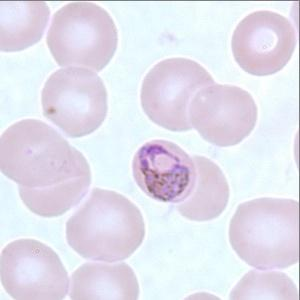Infected: (132, 139, 194, 203)
Uninfected: (139, 56, 222, 129), (0, 118, 88, 185), (65, 187, 144, 261), (16, 145, 92, 216), (228, 197, 300, 271), (46, 2, 118, 75), (41, 65, 108, 139), (231, 8, 295, 76), (0, 238, 70, 300), (190, 85, 257, 147), (175, 155, 230, 220), (66, 258, 140, 300)
